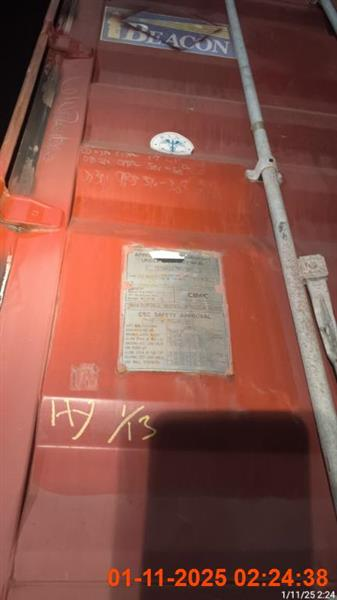broken: (0, 1, 335, 597)
